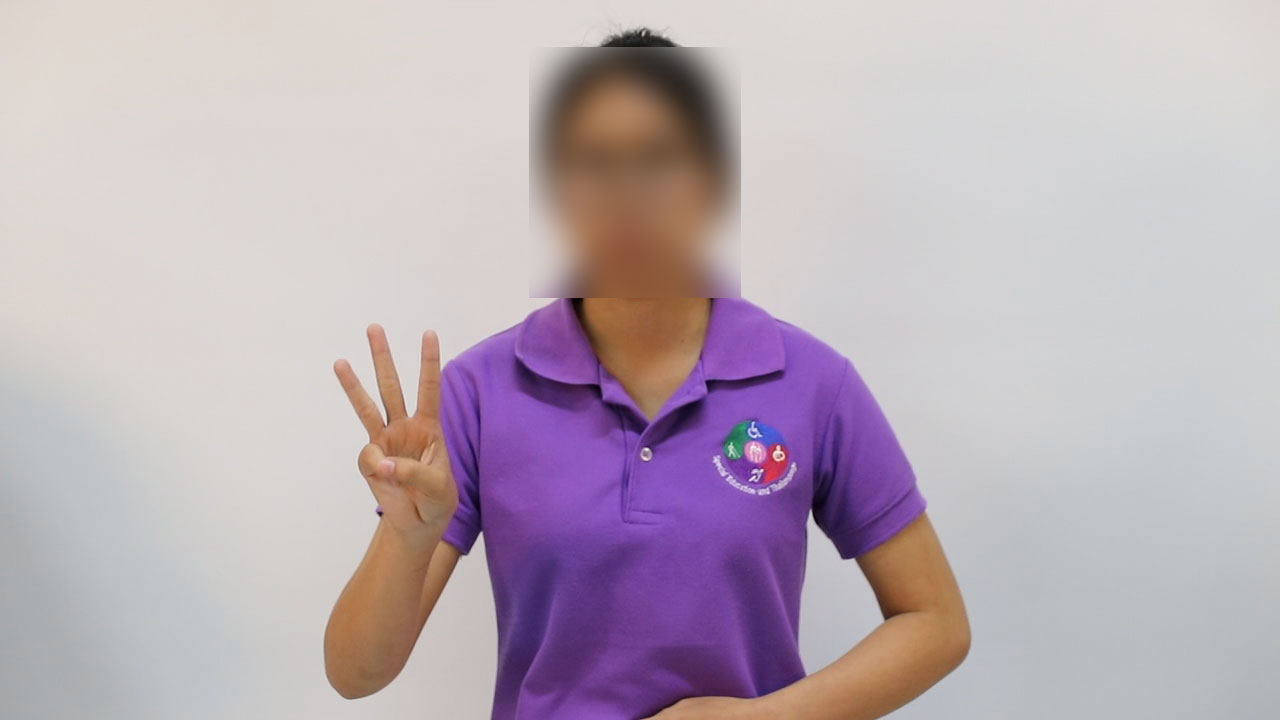wor: (321, 315, 466, 563)
